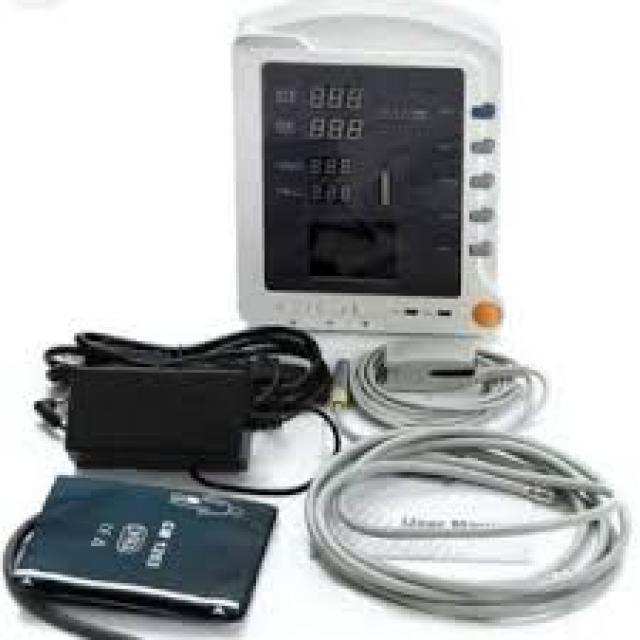cardiac_monitor: (230, 21, 517, 335)
